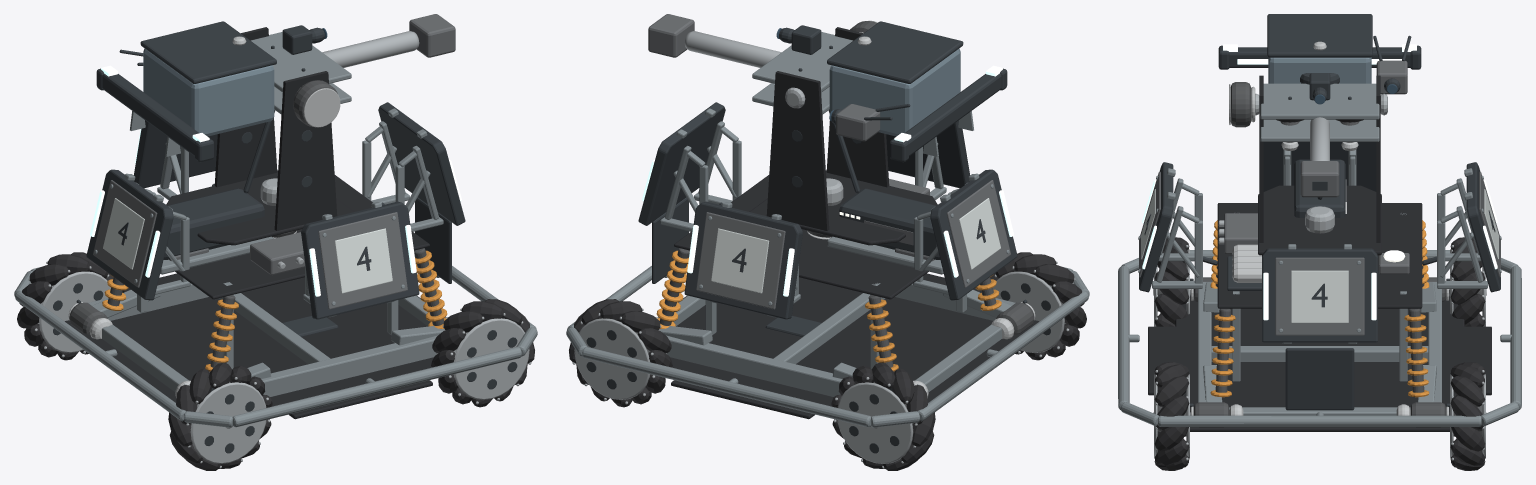
The model's file is robot-4-spec2026v2.glb.
The picture shows the model from 3 angles, left to right: view 1: azimuth 30°, elevation 25°; view 2: azimuth 150°, elevation 25°; view 3: azimuth 270°, elevation 25°; orthographic projection. The views are drawn at different scales.
Visible parts, largest first — view 1: Chassis_RobotMatteAluminum, Chassis_CarbonPlate, Turret_CarbonPlate, MagazineBox, Chassis_RobotMatteGraphite, MagazineLid, ArmorModuleBody, Turret_RobotMatteGraphite, Wheel_0_MachinedAlloy, ArmorHitFace.003, ArmorModuleBody.003, Wheel_2_MachinedAlloy (+23 smaller); view 2: Chassis_CarbonPlate, Chassis_RobotMatteAluminum, Turret_CarbonPlate, MagazineBox, Chassis_RobotMatteGraphite, MagazineLid, ArmorModuleBody, Turret_RobotMatteGraphite, Wheel_1_MachinedAlloy, ArmorHitFace.001, ArmorModuleBody.001, Wheel_3_MachinedAlloy (+23 smaller); view 3: Chassis_CarbonPlate, Chassis_RobotMatteAluminum, Turret_CarbonPlate, Chassis_RobotMatteGraphite, GunPitch_RobotMatteAluminum, MagazineLid, ArmorHitFace, ArmorModuleBody, Wheel_3_PolyurethaneRoller, Wheel_2_PolyurethaneRoller, ArmorSticker, ArmorModuleBody.002 (+27 smaller).
Boxes of the visible parts, x1,y1,x2,y2 form: Chassis_RobotMatteAluminum: (14,236,537,427); Chassis_CarbonPlate: (65,175,445,419); Turret_CarbonPlate: (166,27,354,245); MagazineBox: (143,48,274,136); Chassis_RobotMatteGraphite: (76,188,451,336); MagazineLid: (140,21,276,83); ArmorModuleBody: (378,102,465,225); Turret_RobotMatteGraphite: (96,49,312,193); Wheel_0_MachinedAlloy: (184,377,270,468); ArmorHitFace.003: (318,212,407,309); ArmorModuleBody.003: (301,201,419,319); Wheel_2_MachinedAlloy: (436,308,531,404); Chassis_CarbonPlate: (658,175,1038,419); Chassis_RobotMatteAluminum: (566,236,1089,427); Turret_CarbonPlate: (749,27,937,245); MagazineBox: (829,48,960,136); Chassis_RobotMatteGraphite: (652,188,1027,336); MagazineLid: (827,21,963,83); ArmorModuleBody: (638,102,725,225); Turret_RobotMatteGraphite: (791,68,1007,193); Wheel_1_MachinedAlloy: (833,377,919,468); ArmorHitFace.001: (696,212,785,309); ArmorModuleBody.001: (684,201,802,319); Wheel_3_MachinedAlloy: (572,308,667,404); Chassis_CarbonPlate: (1148,203,1491,431); Chassis_RobotMatteAluminum: (1118,213,1521,426); Turret_CarbonPlate: (1258,75,1381,255); Chassis_RobotMatteGraphite: (1190,159,1449,410); GunPitch_RobotMatteAluminum: (1260,83,1379,141); MagazineLid: (1267,14,1372,57); ArmorHitFace: (1275,257,1364,335); ArmorModuleBody: (1262,248,1377,342); Wheel_3_PolyurethaneRoller: (1450,362,1485,470); Wheel_2_PolyurethaneRoller: (1154,362,1189,470); ArmorSticker: (1291,270,1348,322); ArmorModuleBody.002: (1263,142,1376,191).
Size of the model in its own units: 0.5884 by 0.5506 by 0.5869.
